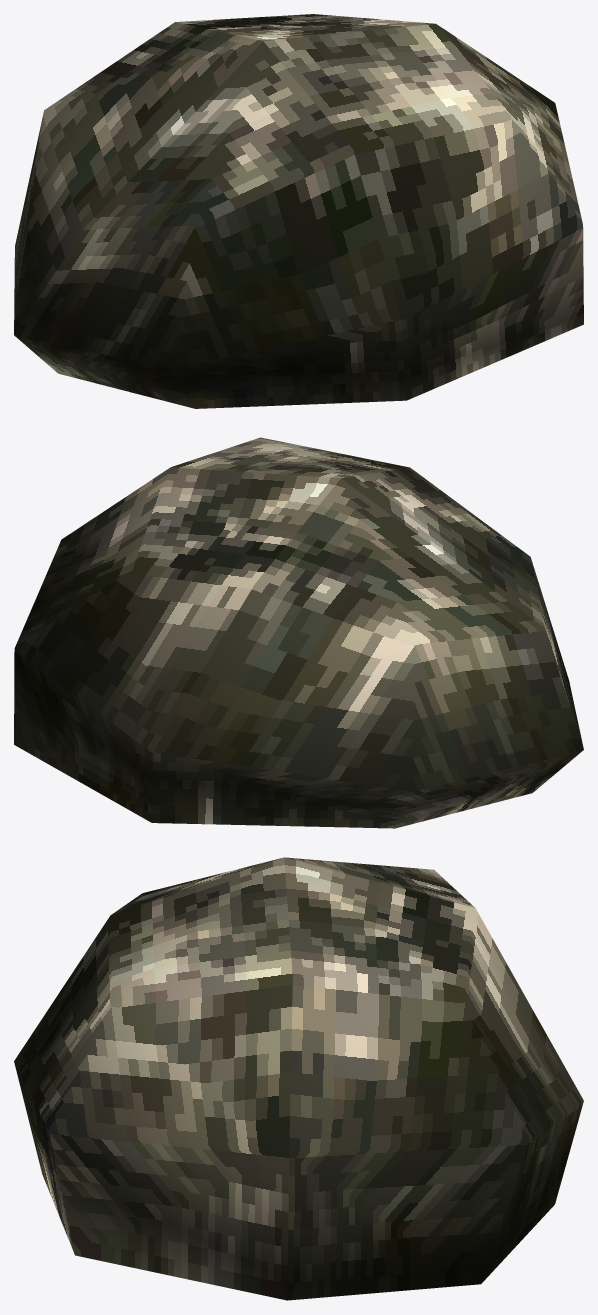
3 views of the same model, one above another, from view 1: azimuth 30°, elevation 25°; view 2: azimuth 150°, elevation 25°; view 3: azimuth 270°, elevation 25° (orthographic). The views are drawn at different scales.
Parts seen in each view (by area): view 1: MT_02; view 2: MT_02; view 3: MT_02.
Boxes of the visible parts, bbox=[...] form: MT_02: bbox=[14, 14, 583, 408]; MT_02: bbox=[14, 437, 583, 828]; MT_02: bbox=[14, 857, 583, 1300].
Size of the model in its own units: 0.3067 by 0.1519 by 0.2539.
Materials: 1 (1 with a texture image).
